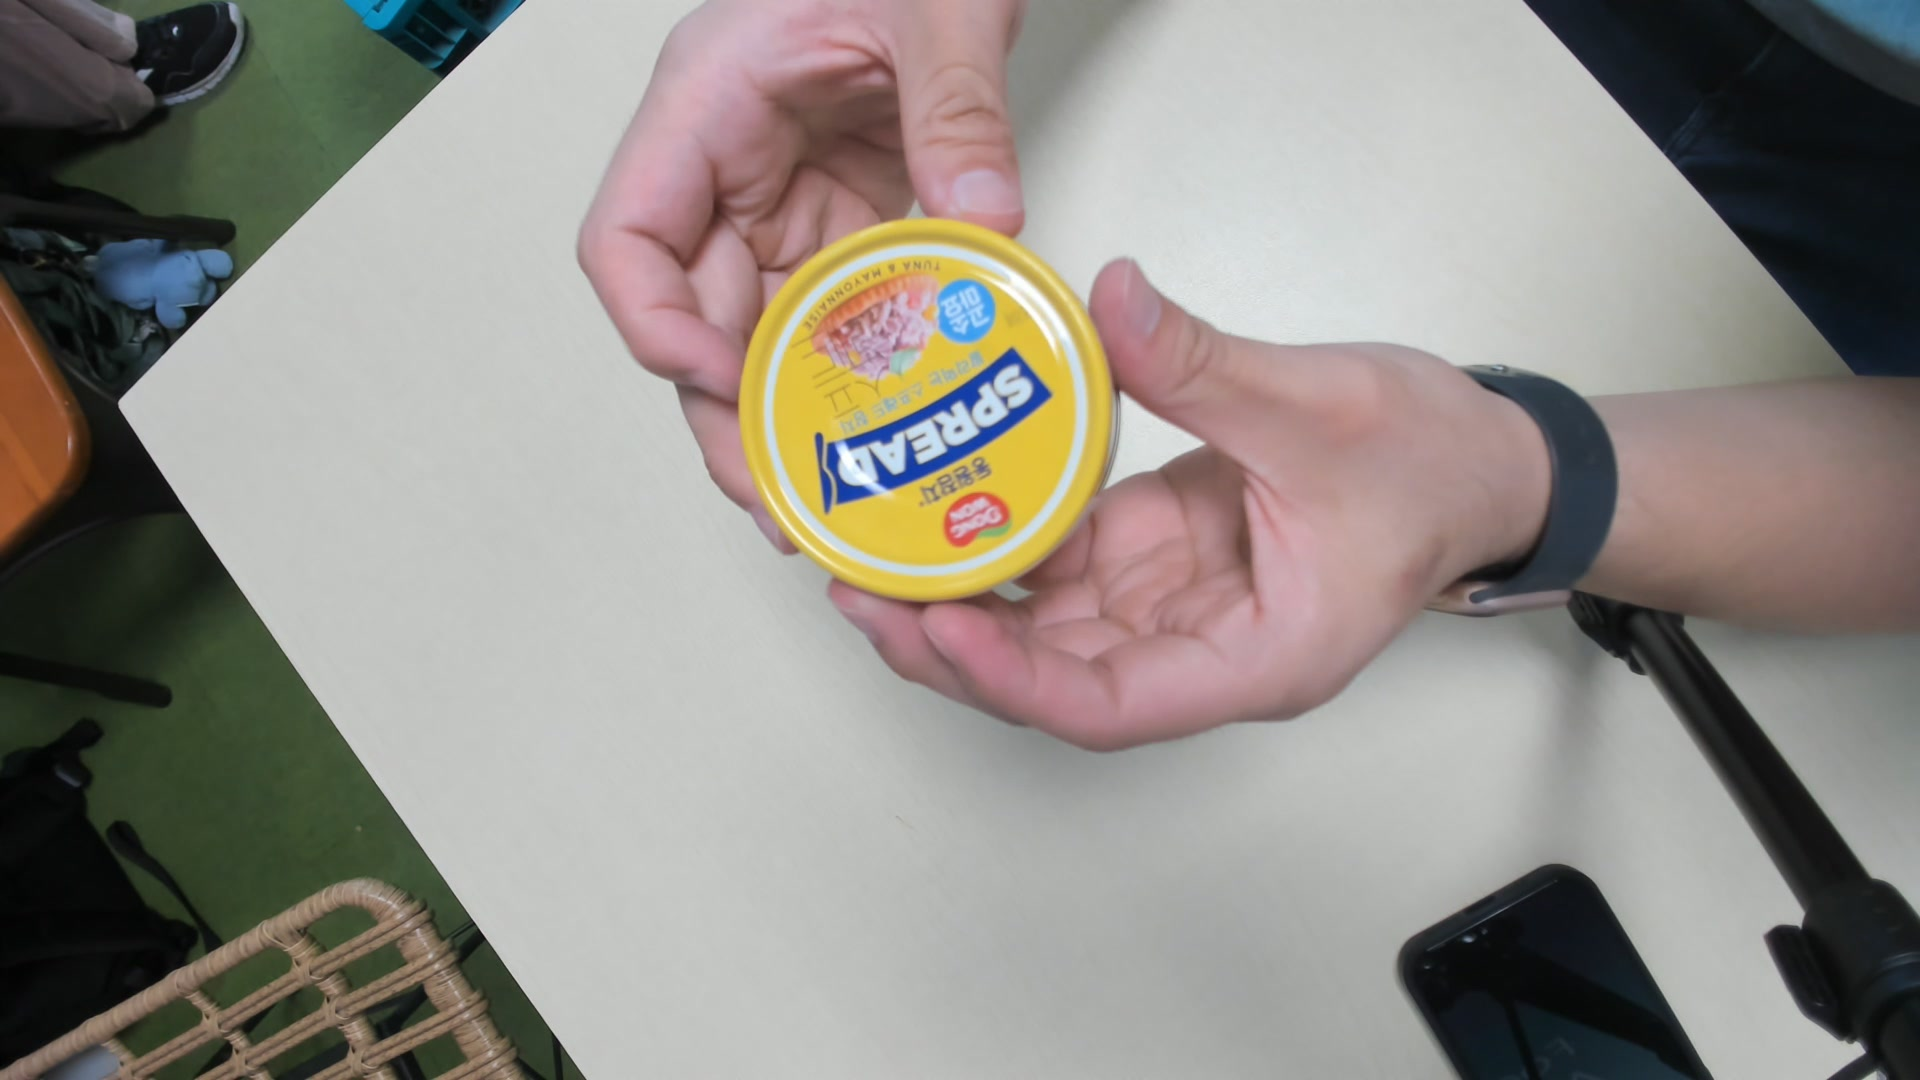OtherSauceDressing_0-99g_NonHalal_NonHealthy: (735, 216, 1118, 608)
